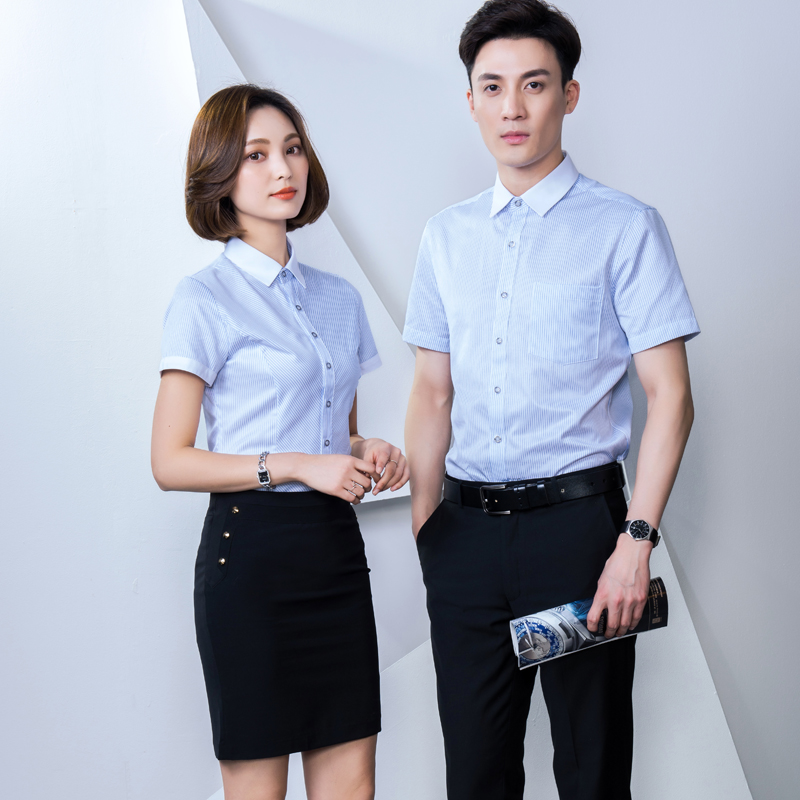F_belt: (435, 473, 636, 513)
F_dress pants: (421, 473, 635, 789)
F_shirt: (405, 167, 698, 467), (153, 230, 375, 484)
F_tailored skirt: (187, 482, 407, 769)
